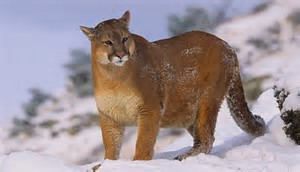Mountain Lion: (79, 9, 261, 160)
